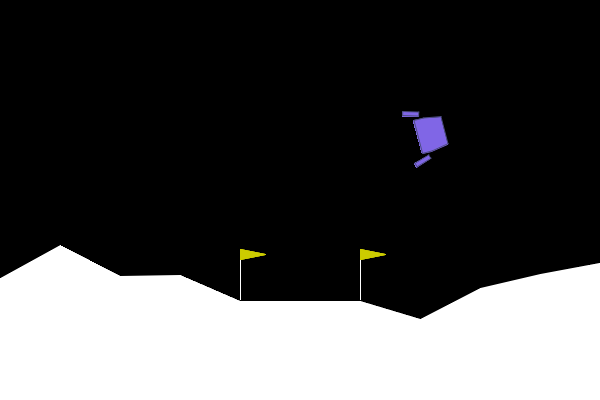lander: (400, 101, 454, 169)
